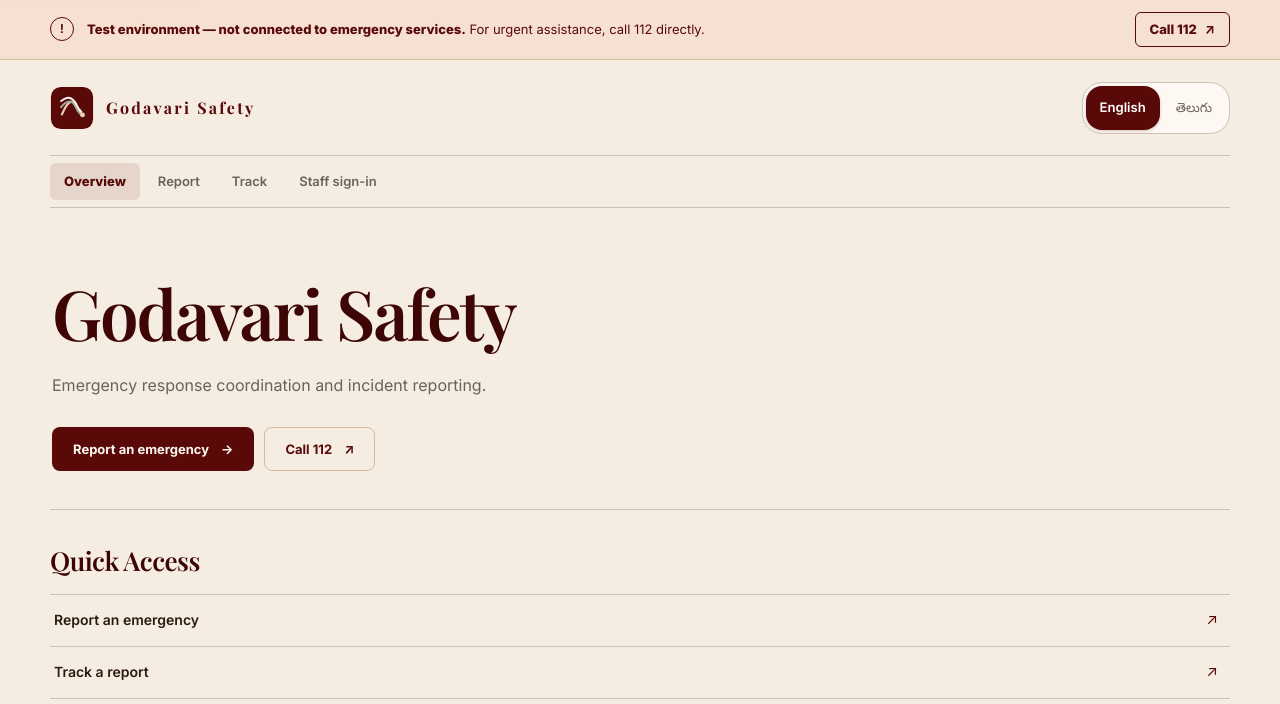
Test: role-aware staff screens › Stage 11: language switcher toggles between English and Telugu and shows review disclaimer
Expected: the link "Report" is shown, [158,173,200,189]
Expected: the text "అధికారిక సమీక్ష అవసరం" is not shown
// Switch to Telugu
Click the button named "Switch to Telugu". click: (1194, 108)
box: [1162,86,1226,130]
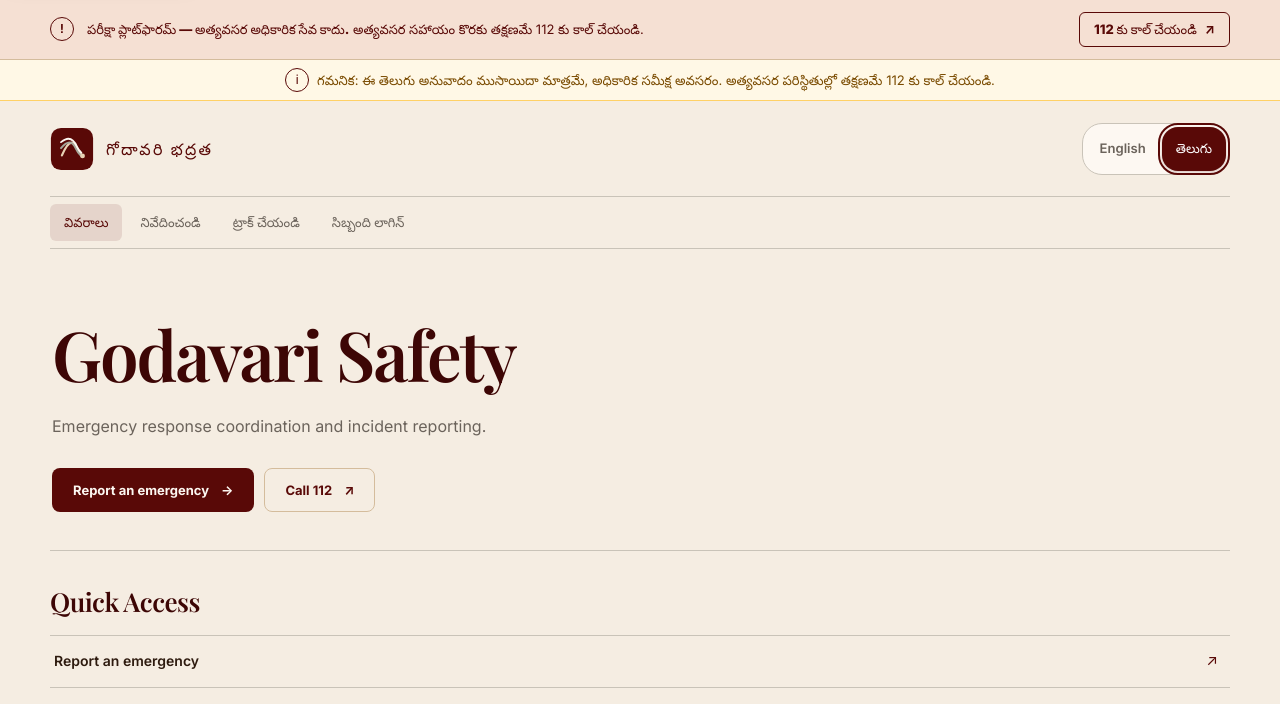
Expected: the link "నివేదించండి" is shown, [140,214,201,230]
Expected: the text "అధికారిక సమీక్ష అవసరం" is shown, [317,72,995,88]
// Switch back to English
Click the button named "Switch to English". click: (1123, 149)
box: [1086,127,1160,171]
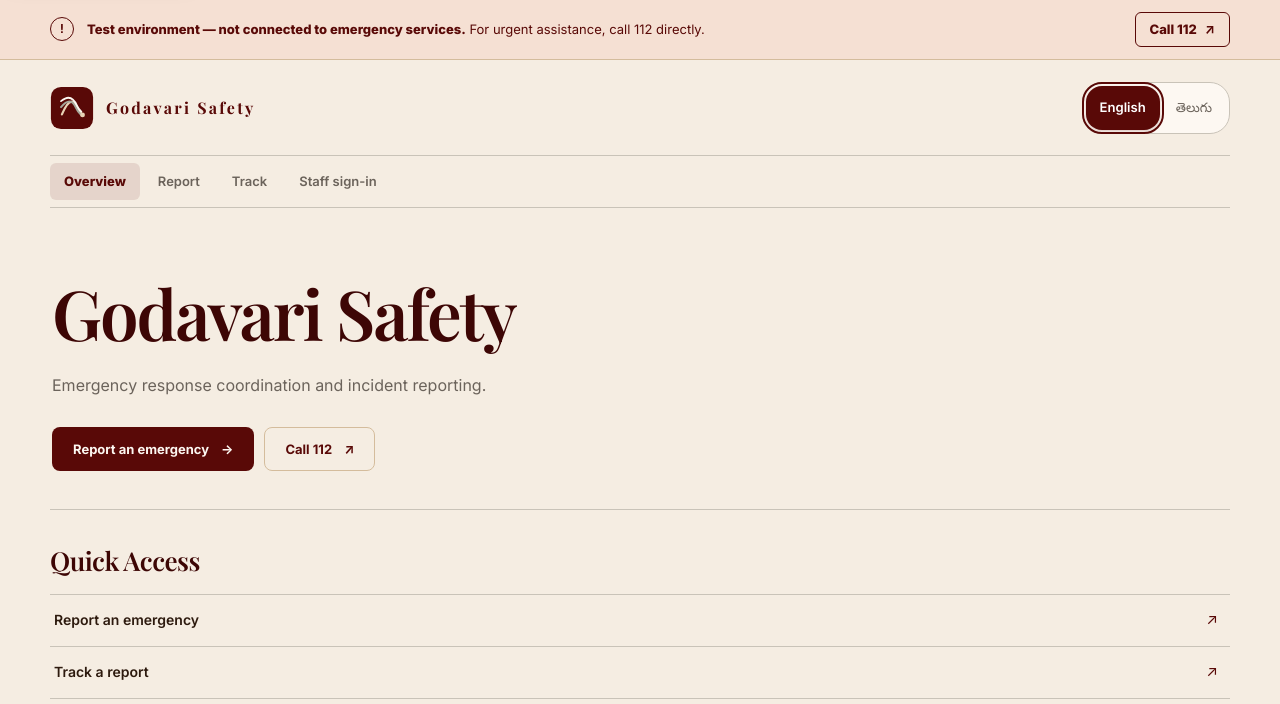
Expected: the link "Report" is shown, [158,173,200,189]
Expected: the text "అధికారిక సమీక్ష అవసరం" is gone
